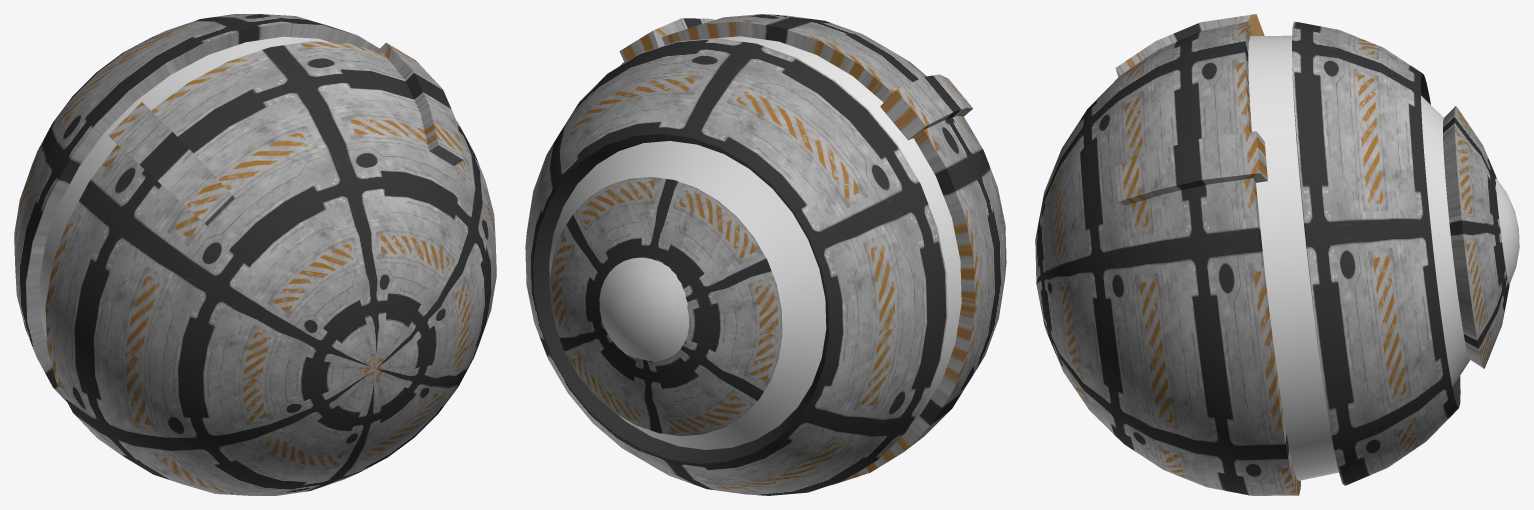
Rendered from SketchFab Robo.fbx.
3 views of the same model, side by side, from view 1: azimuth 30°, elevation 25°; view 2: azimuth 150°, elevation 25°; view 3: azimuth 270°, elevation 25° (orthographic).
Parts seen in each view (by area): view 1: Sphere; view 2: Sphere; view 3: Sphere.
Part boxes in pixels (x1=…): Sphere: x1=14, y1=14, x2=496, y2=495; Sphere: x1=525, y1=14, x2=1006, y2=495; Sphere: x1=1035, y1=14, x2=1519, y2=495.
Size of the model in its own units: 200 by 199 by 203.
